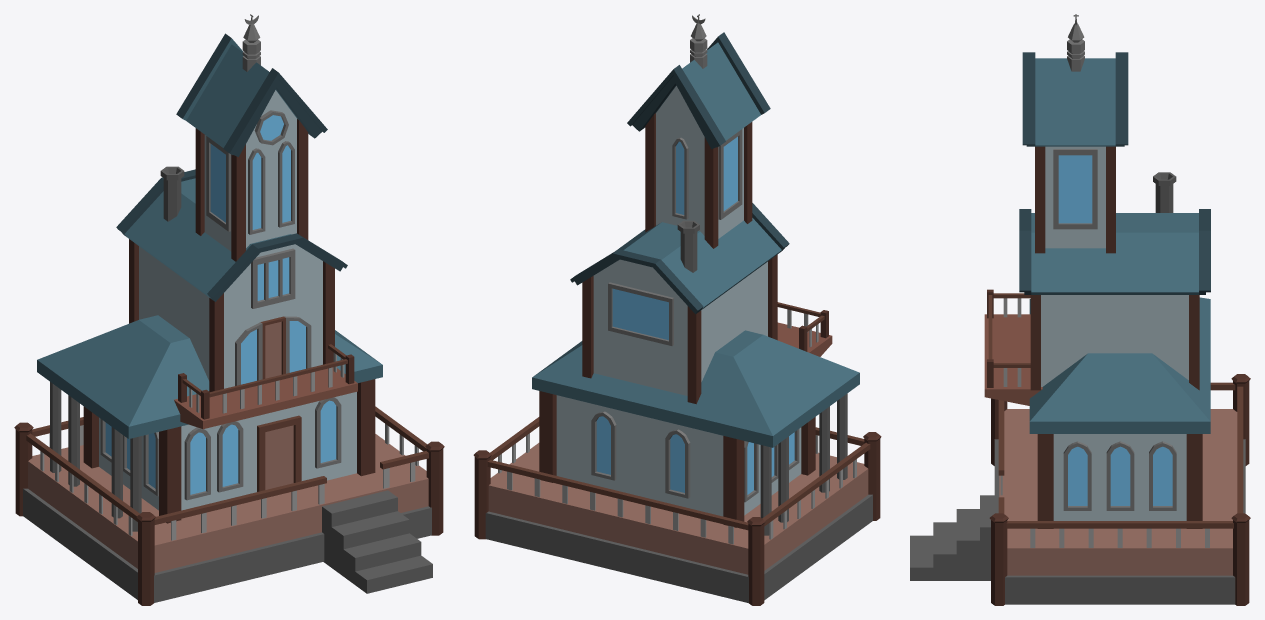
The model's file is CASA01.fbx.
3 views of the same model, side by side, from view 1: azimuth 30°, elevation 25°; view 2: azimuth 150°, elevation 25°; view 3: azimuth 270°, elevation 25° (orthographic). The views are drawn at different scales.
Parts seen in each view (by area): view 1: CASA01; view 2: CASA01; view 3: CASA01.
Part boxes in pixels (x1,y1,x2,y2): CASA01: (14, 14, 444, 605); CASA01: (473, 14, 881, 605); CASA01: (910, 14, 1250, 605).
Size of the model in its own units: 1119 by 1851 by 1101.
1 material, 1 textured.
